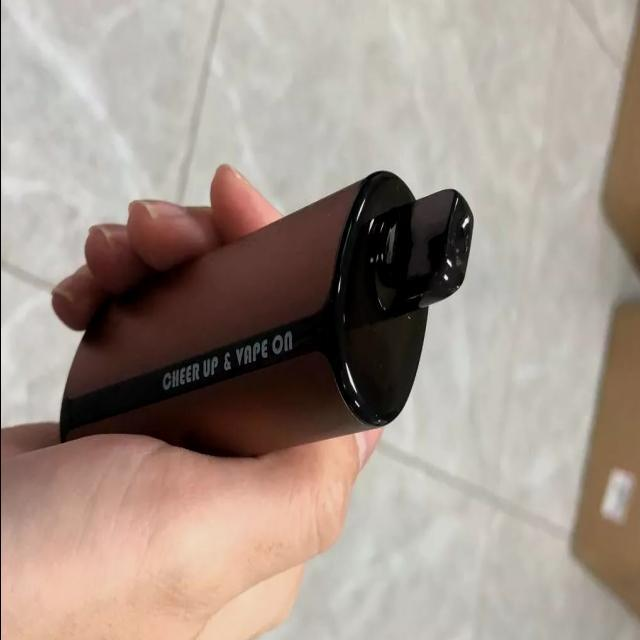Hazard: (59, 169, 473, 456)
